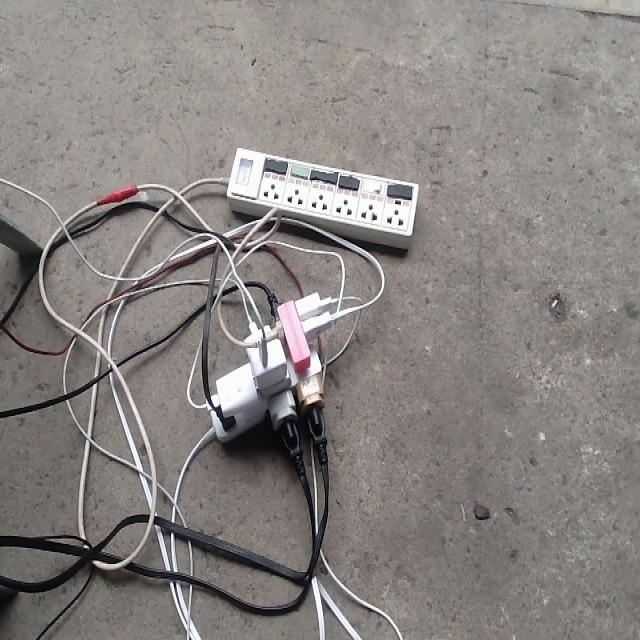-: (162, 239, 392, 513)
